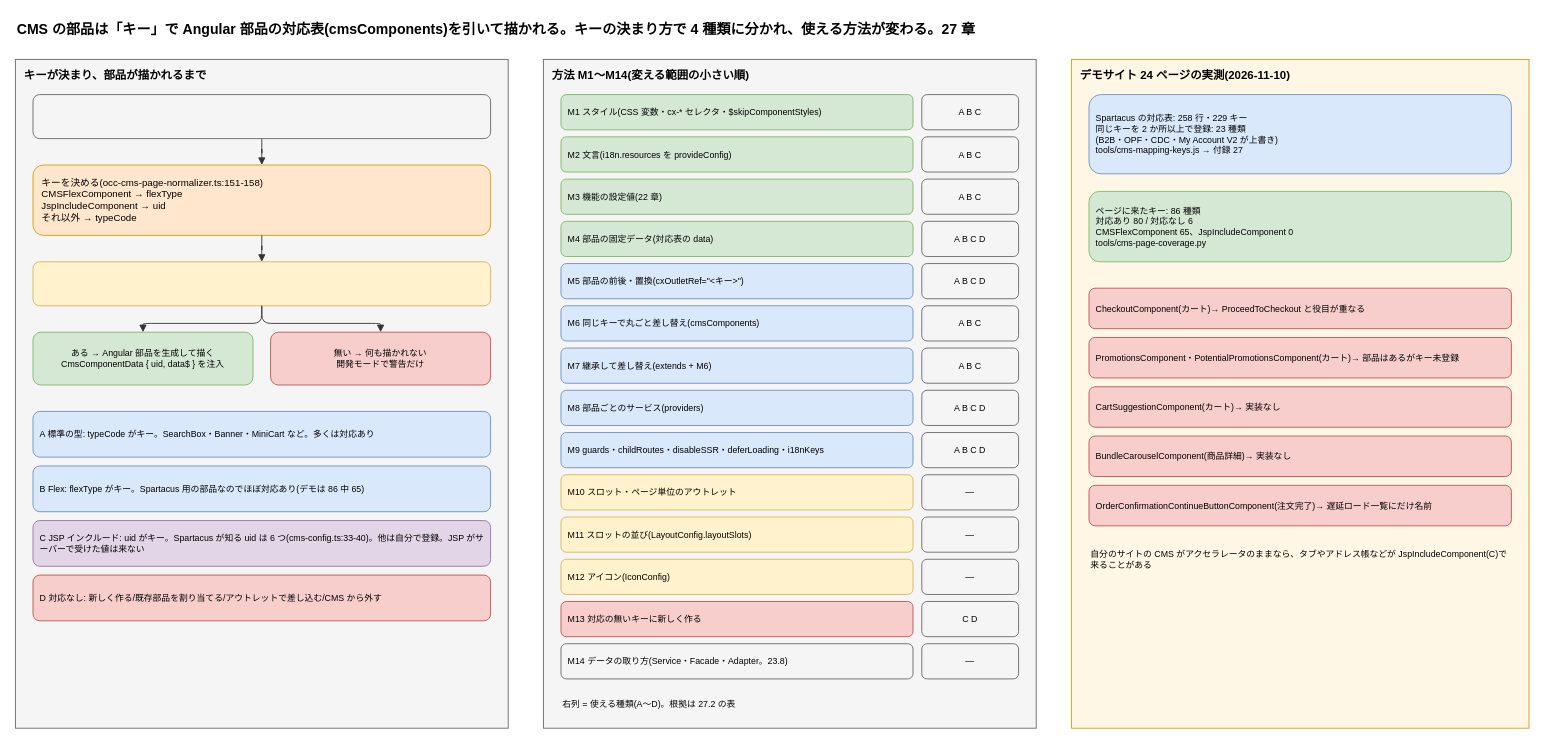
Image size: 1562x744. Some labels were removed from this diagram. Each missing label, with the centre of its shape:
"OCC cms/pages の部品 { typeCode, uid, flexType, … }" belongs at [261,116].
"対応表を引く(cms-components.service.ts:165-180) アプリの provideConfig > 機能ライブラリ > 本体の既定" belongs at [261,283].
